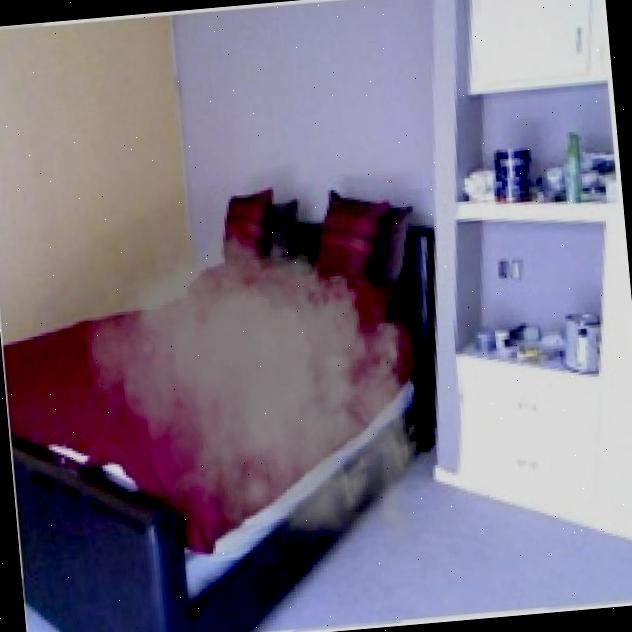smoke: (64, 198, 445, 587)
